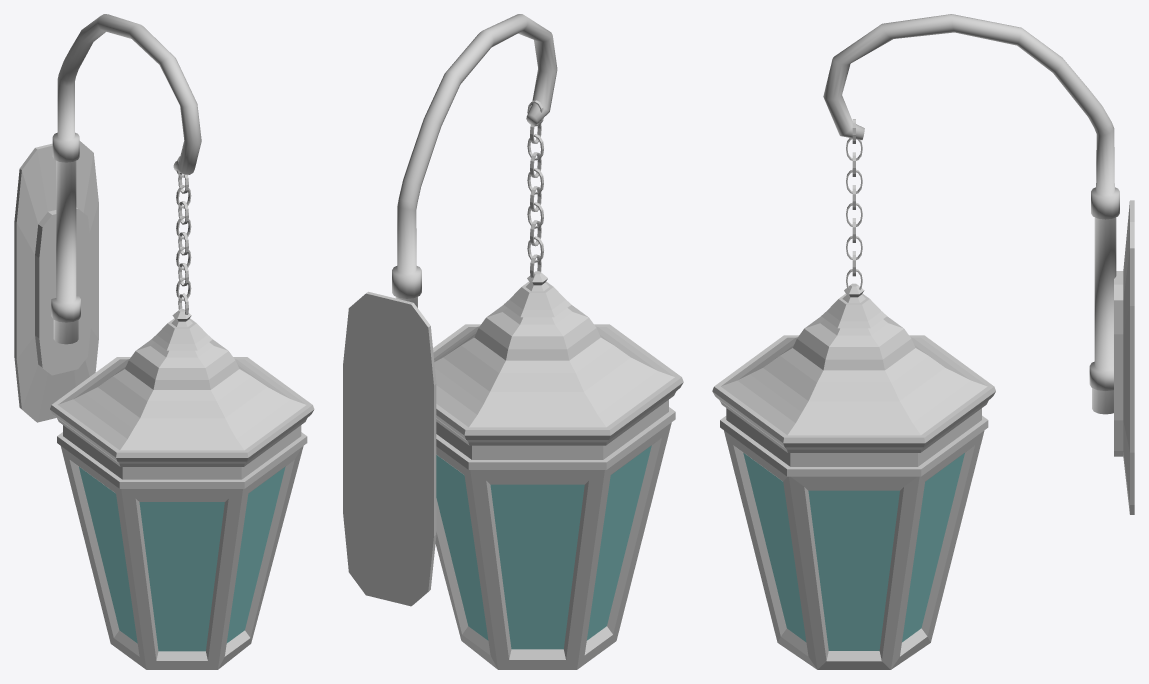
Rendered from Lantern_LP.fbx.
3 renders of one model, left to right at view 1: azimuth 30°, elevation 25°; view 2: azimuth 150°, elevation 25°; view 3: azimuth 270°, elevation 25°, orthographic. The views are drawn at different scales.
Visible parts, largest first — view 1: Lantern, BOTTOM, Pipe, Chain; view 2: Lantern, BOTTOM, Pipe, Chain; view 3: Lantern, Pipe, BOTTOM, Chain.
Boxes of the visible parts, x1,y1,x2,y2 form: Lantern: (50,309,314,669); BOTTOM: (14,141,98,422); Pipe: (51,14,201,344); Chain: (176,156,191,314); Lantern: (433,271,683,669); BOTTOM: (343,291,436,606); Pipe: (392,14,557,307); Chain: (527,100,543,277); Lantern: (712,283,995,669); Pipe: (823,14,1119,414); BOTTOM: (1114,200,1134,514); Chain: (846,119,862,289).
Size of the model in its own units: 0.3444 by 0.9709 by 0.5918.
